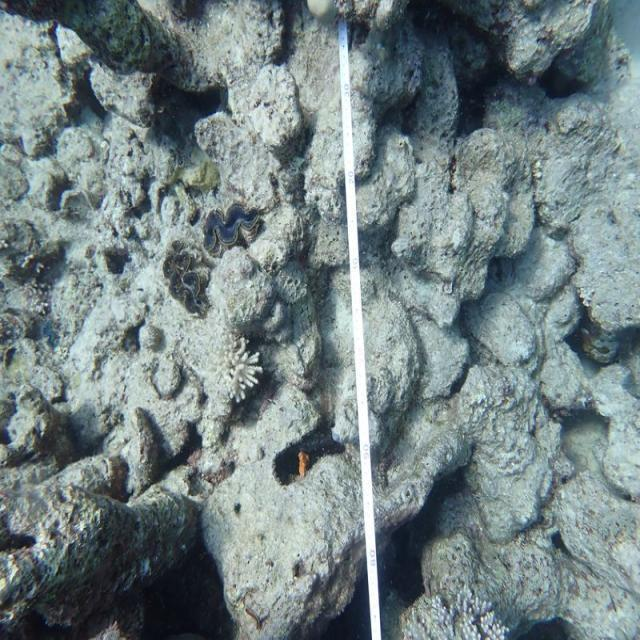Bleached Coral: (393, 571, 517, 640), (190, 328, 279, 405)
